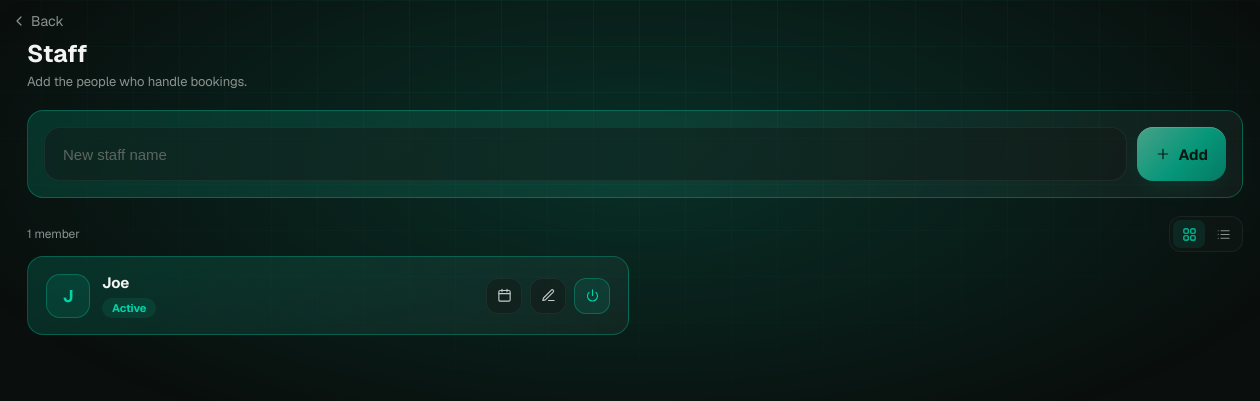
Test: Staff › adds a staff member
Expected: the text "Joe" is shown, [102,273,129,292]
Type "Mia" into the field with placeholder "New staff name" at (585,154), box [61,128,1110,180]
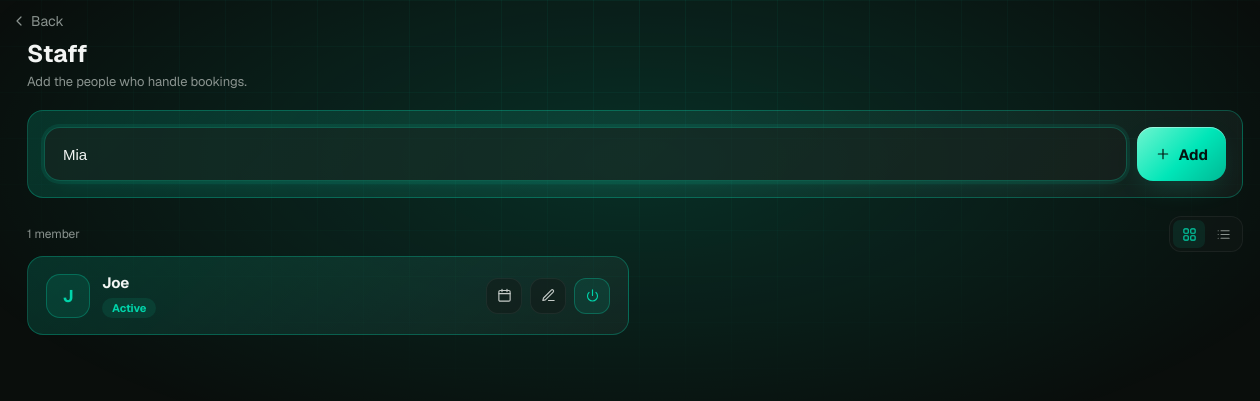
Click the button "Add" at (1181,154), box [1136,127,1226,181]
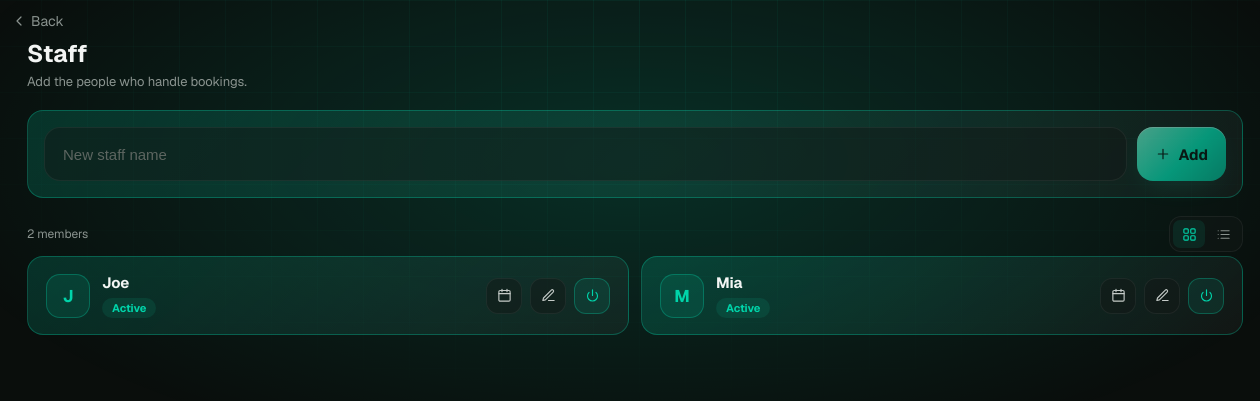
Now the text "Mia" is shown, box [716,273,742,292]
